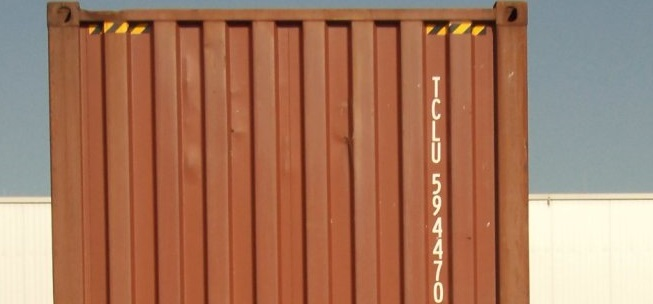container_no_door: (44, 1, 526, 304)
